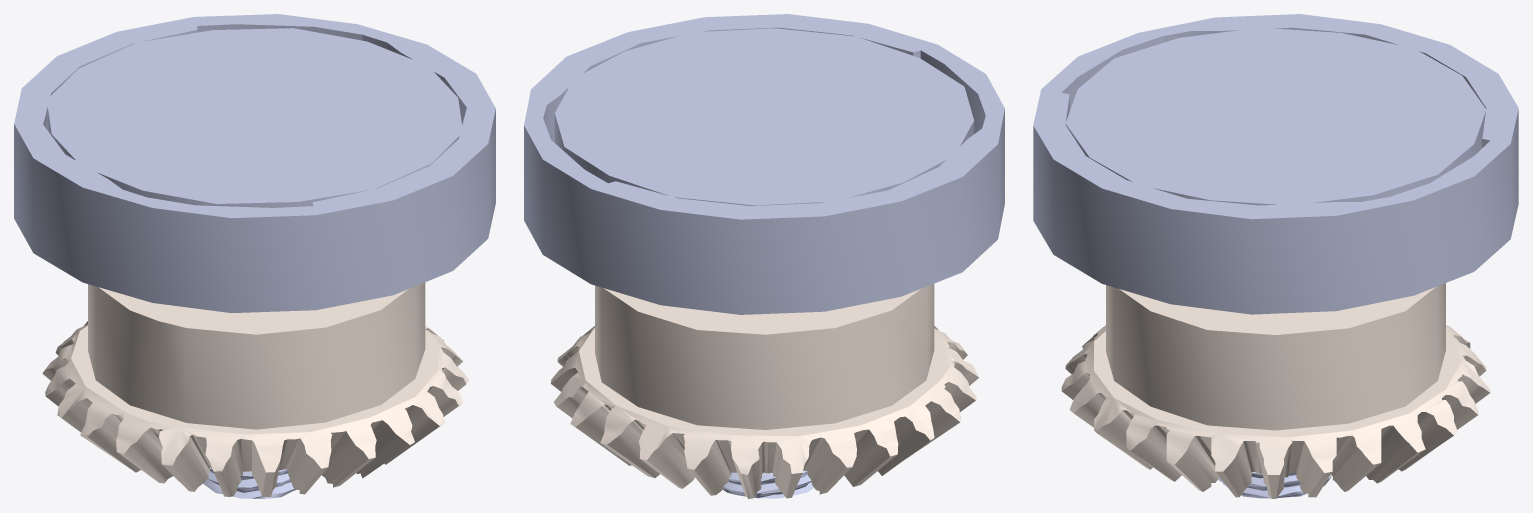
File: wrist_roll_link.dae
3 renders of one model, left to right at view 1: azimuth 30°, elevation 25°; view 2: azimuth 150°, elevation 25°; view 3: azimuth 270°, elevation 25°, orthographic.
Parts seen in each view (by area): view 1: wrist_roll_link; view 2: wrist_roll_link; view 3: wrist_roll_link.
Part boxes in pixels (left/top/right/bottom): wrist_roll_link: left=14, top=14, right=495, bottom=498; wrist_roll_link: left=524, top=14, right=1004, bottom=498; wrist_roll_link: left=1033, top=14, right=1518, bottom=498.
Size of the model in its own units: 0.06 by 0.06 by 0.049.
